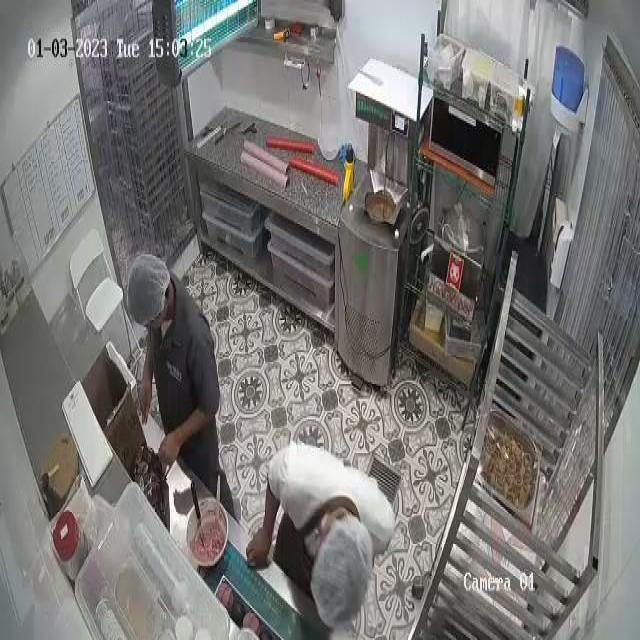hairnet: (322, 529, 377, 624), (127, 254, 165, 326)
